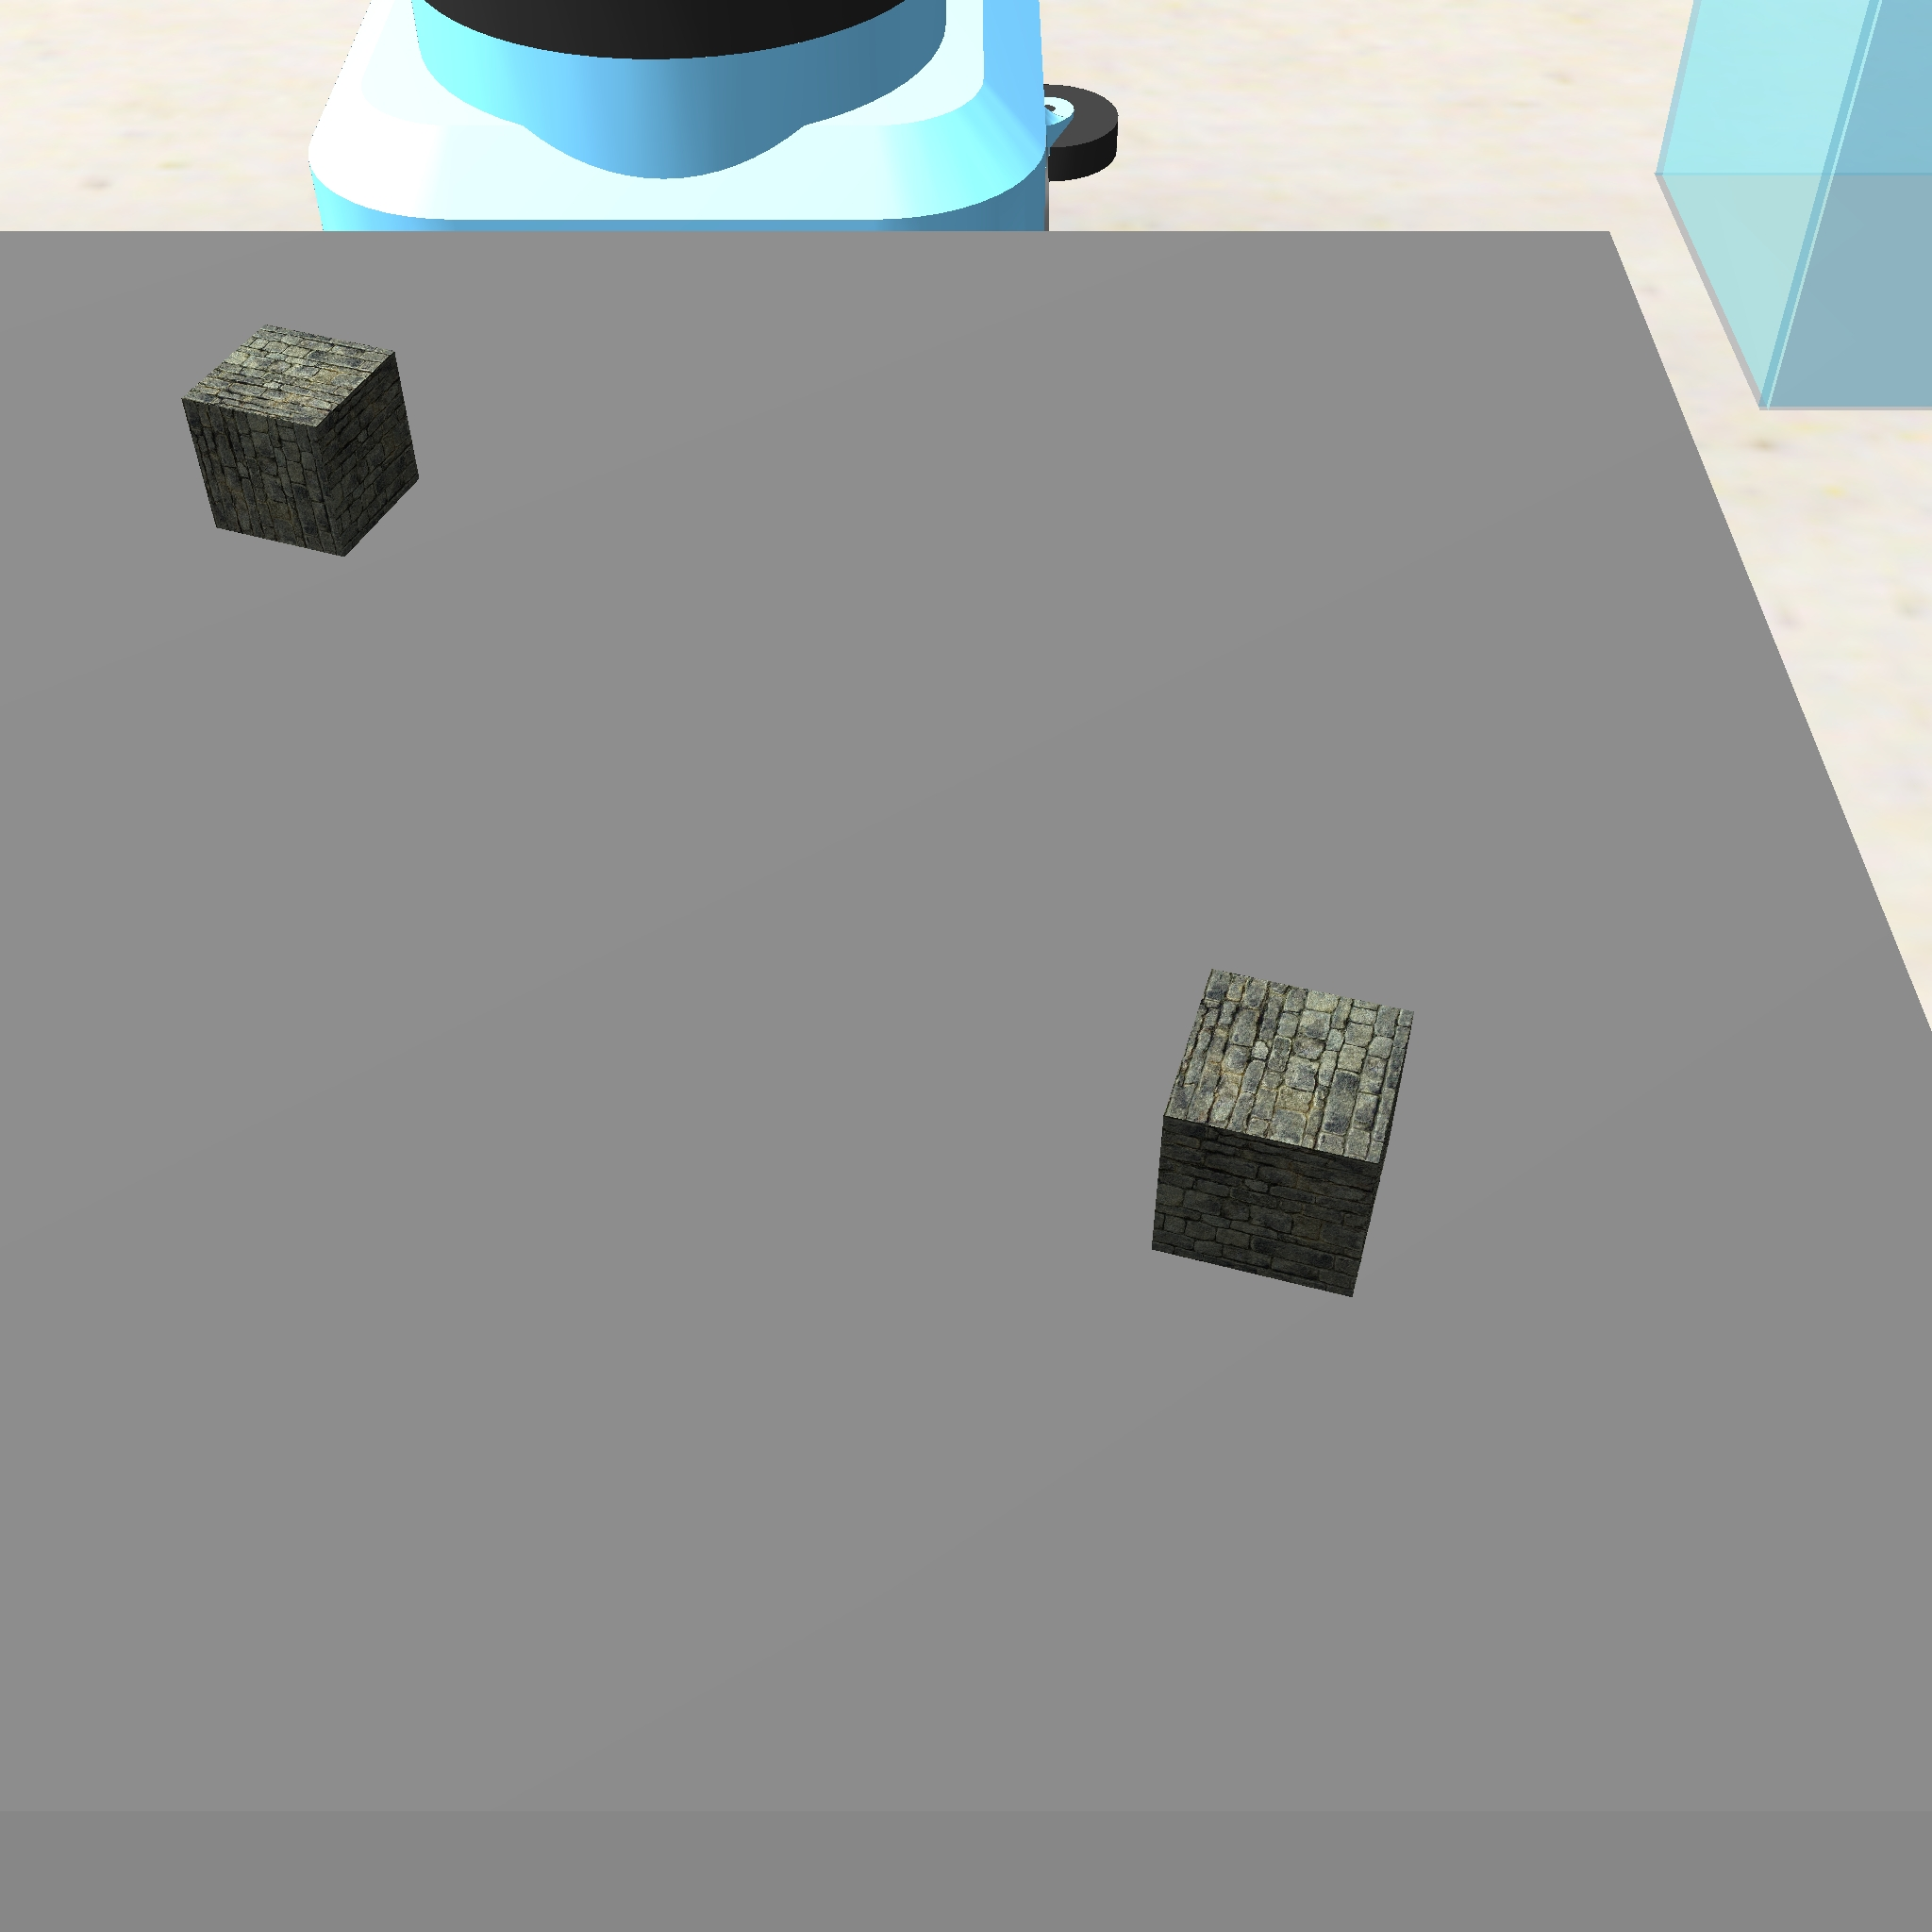cube: (1139, 959, 1426, 1313), (175, 315, 430, 566)
